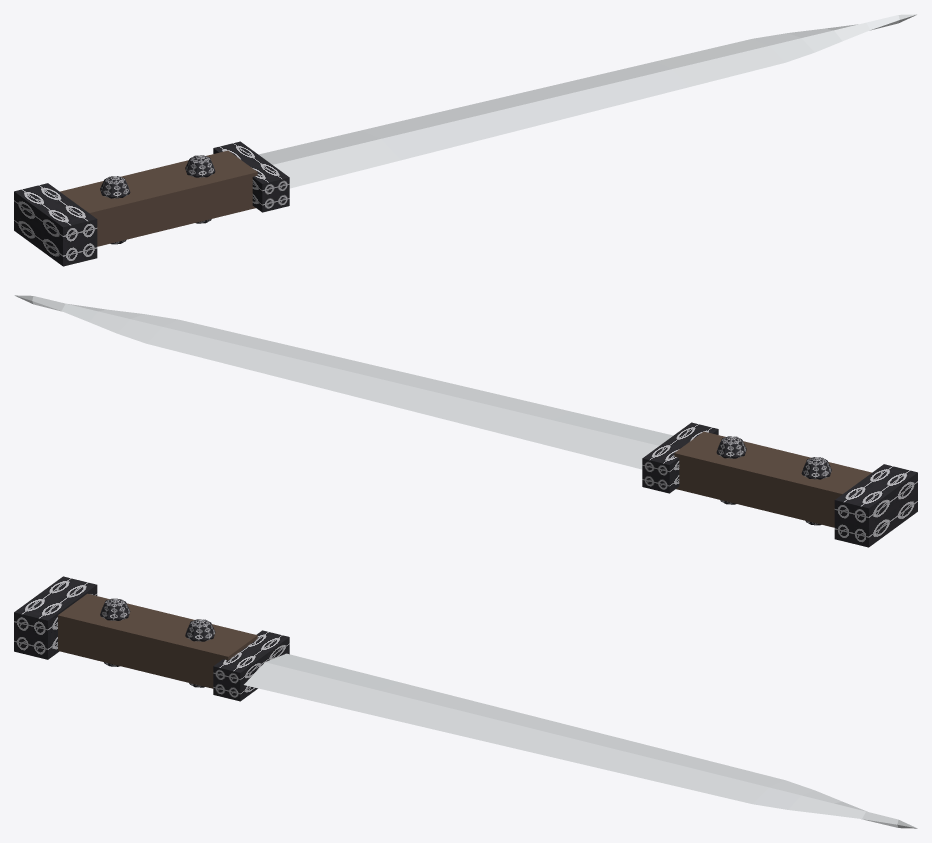
Rendered from kinjal.glb.
The picture shows the model from 3 angles, top to bottom: view 1: azimuth 30°, elevation 25°; view 2: azimuth 150°, elevation 25°; view 3: azimuth 330°, elevation 25°; orthographic projection.
Visible parts, largest first — view 1: Kinjal; view 2: Kinjal; view 3: Kinjal.
Part boxes in pixels (x1,y1,x2,y2): Kinjal: (14,14,917,266); Kinjal: (14,295,917,547); Kinjal: (14,576,917,828).
Bounding box in the file's own units: 0.5164 × 0.038 × 0.05.
3 materials, 1 textured.
